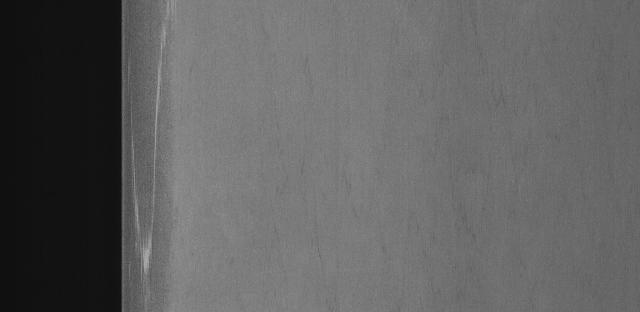silk_spot: (126, 1, 211, 281)
